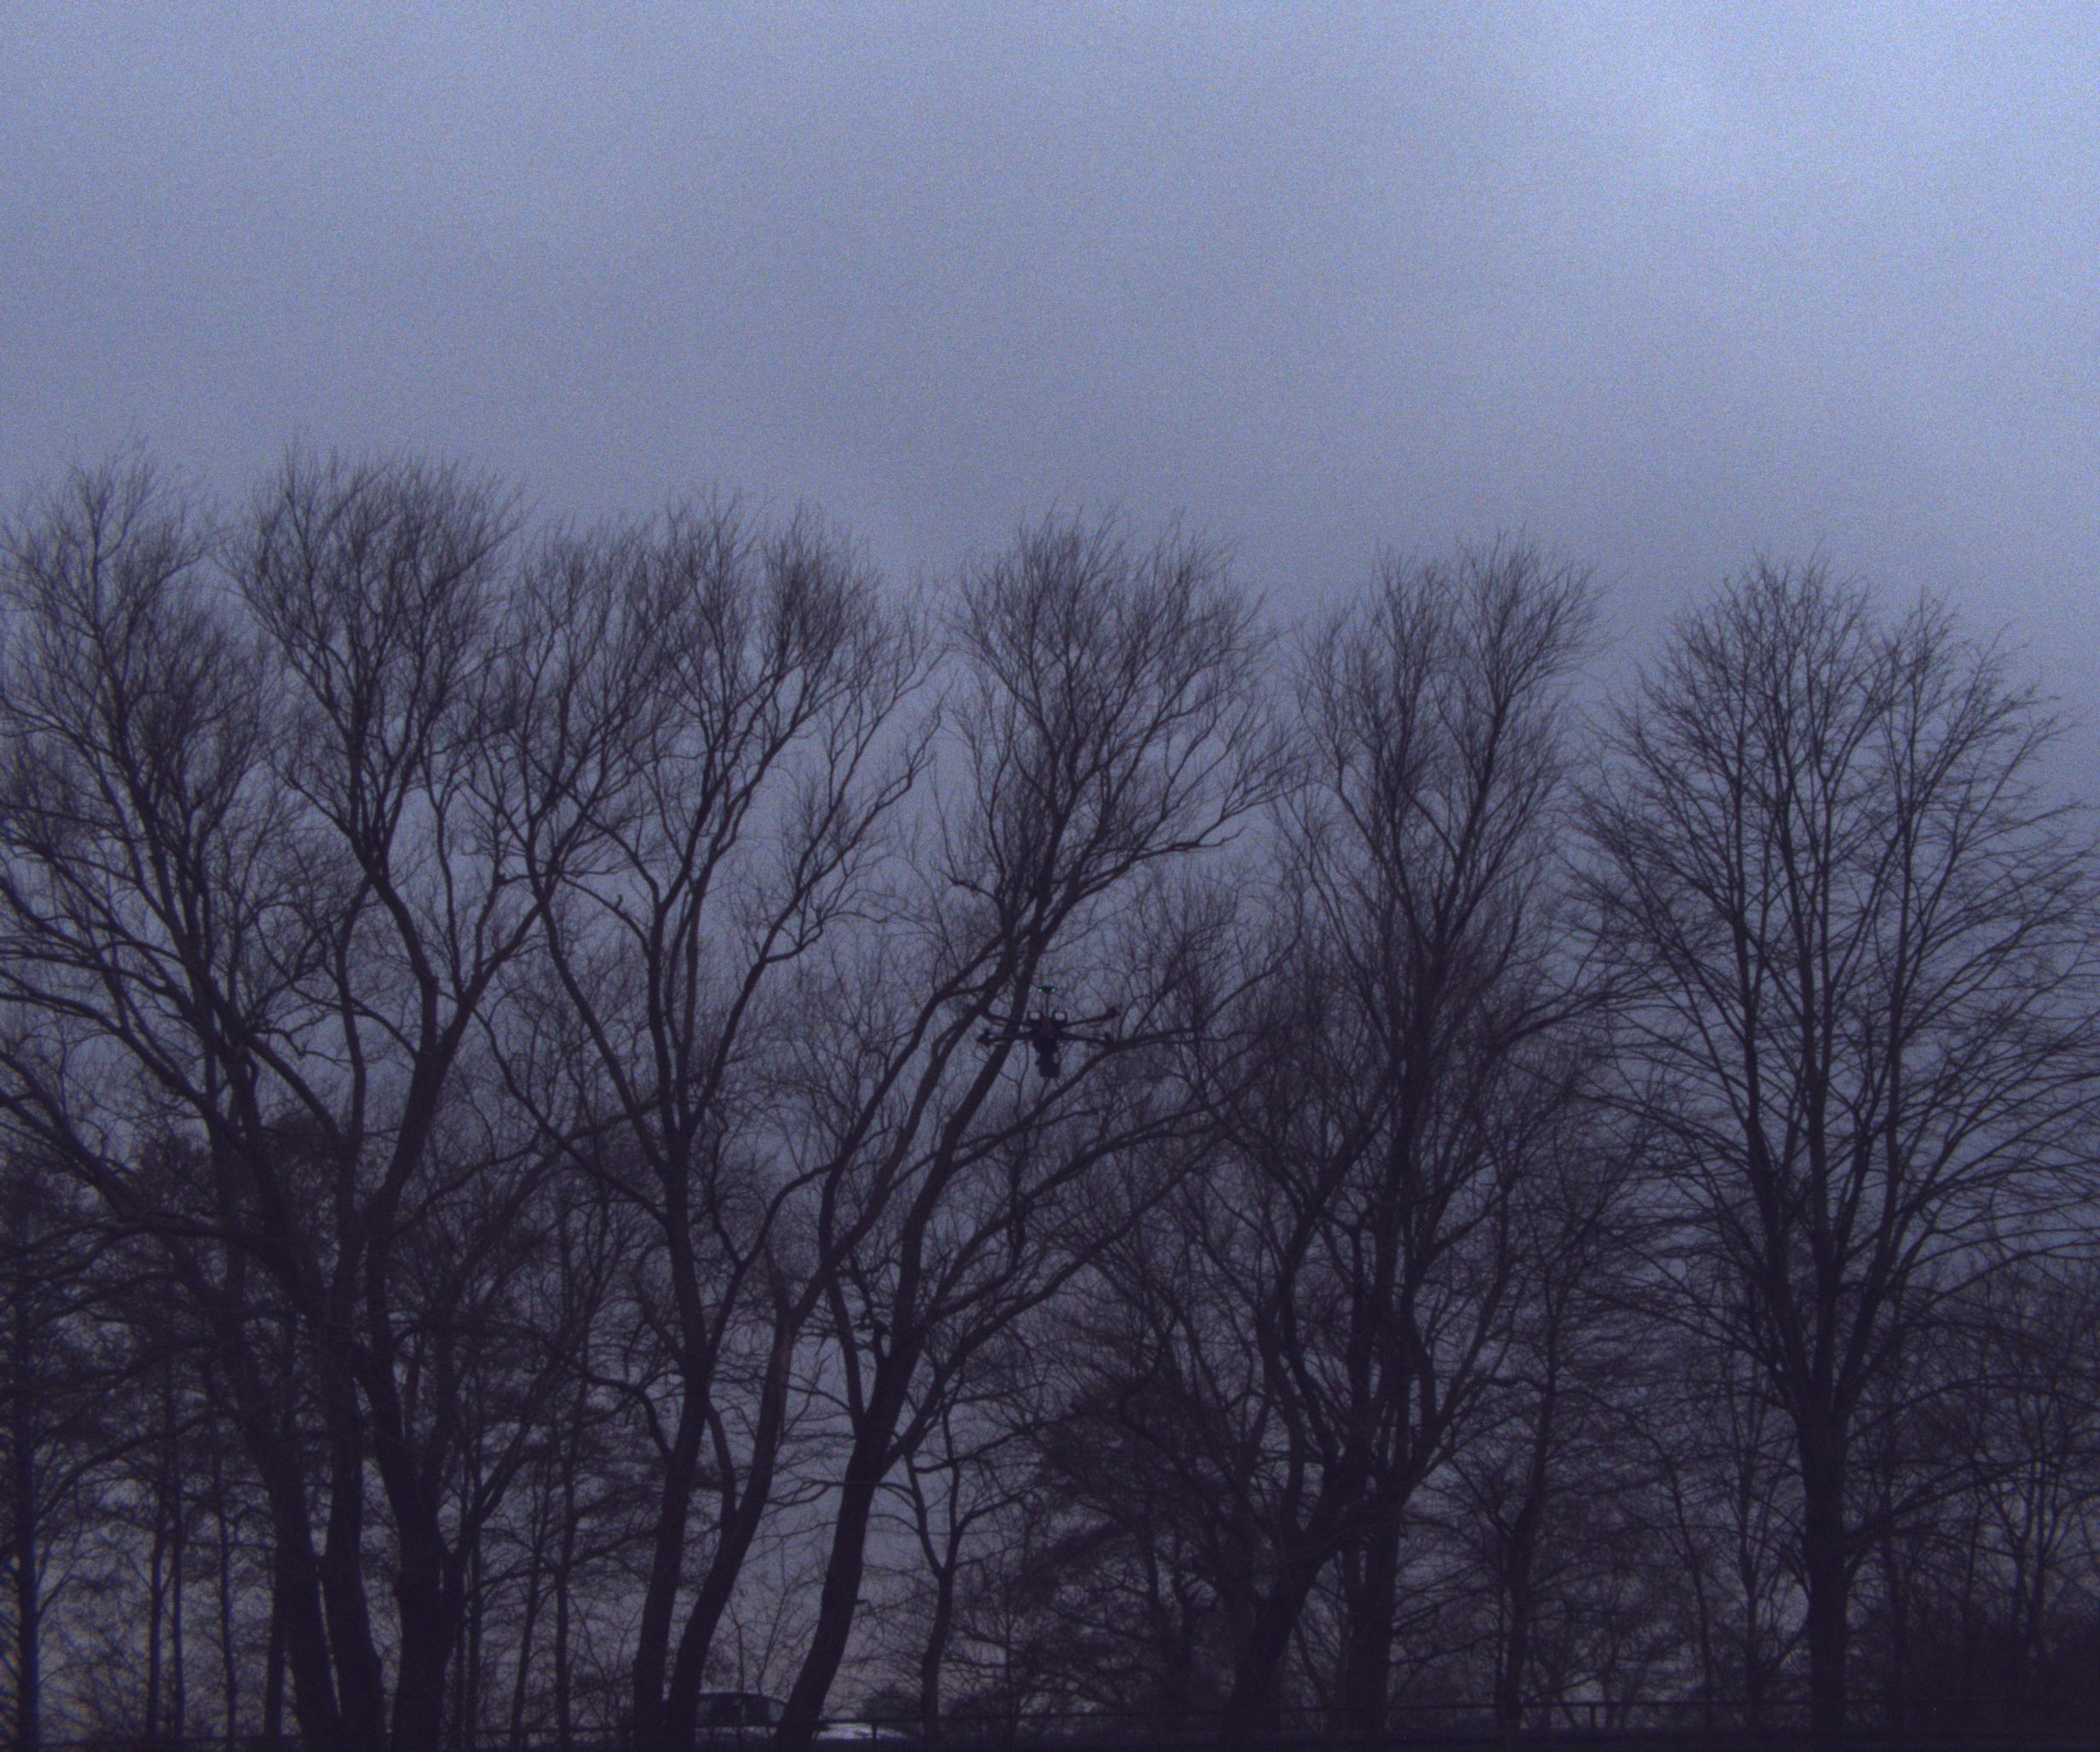Drohne: (931, 931, 1125, 1074)
